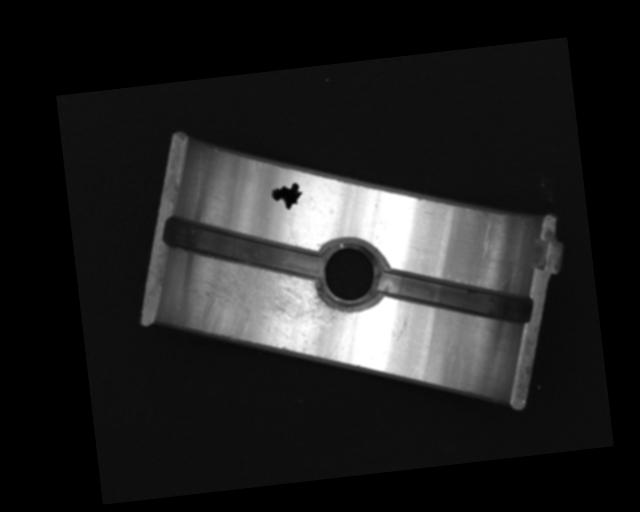blot: (269, 180, 306, 213)
gap: (165, 201, 322, 294), (376, 255, 533, 340)
hole: (311, 231, 388, 315)
nick: (476, 213, 499, 257)
scratch: (181, 244, 356, 382)
